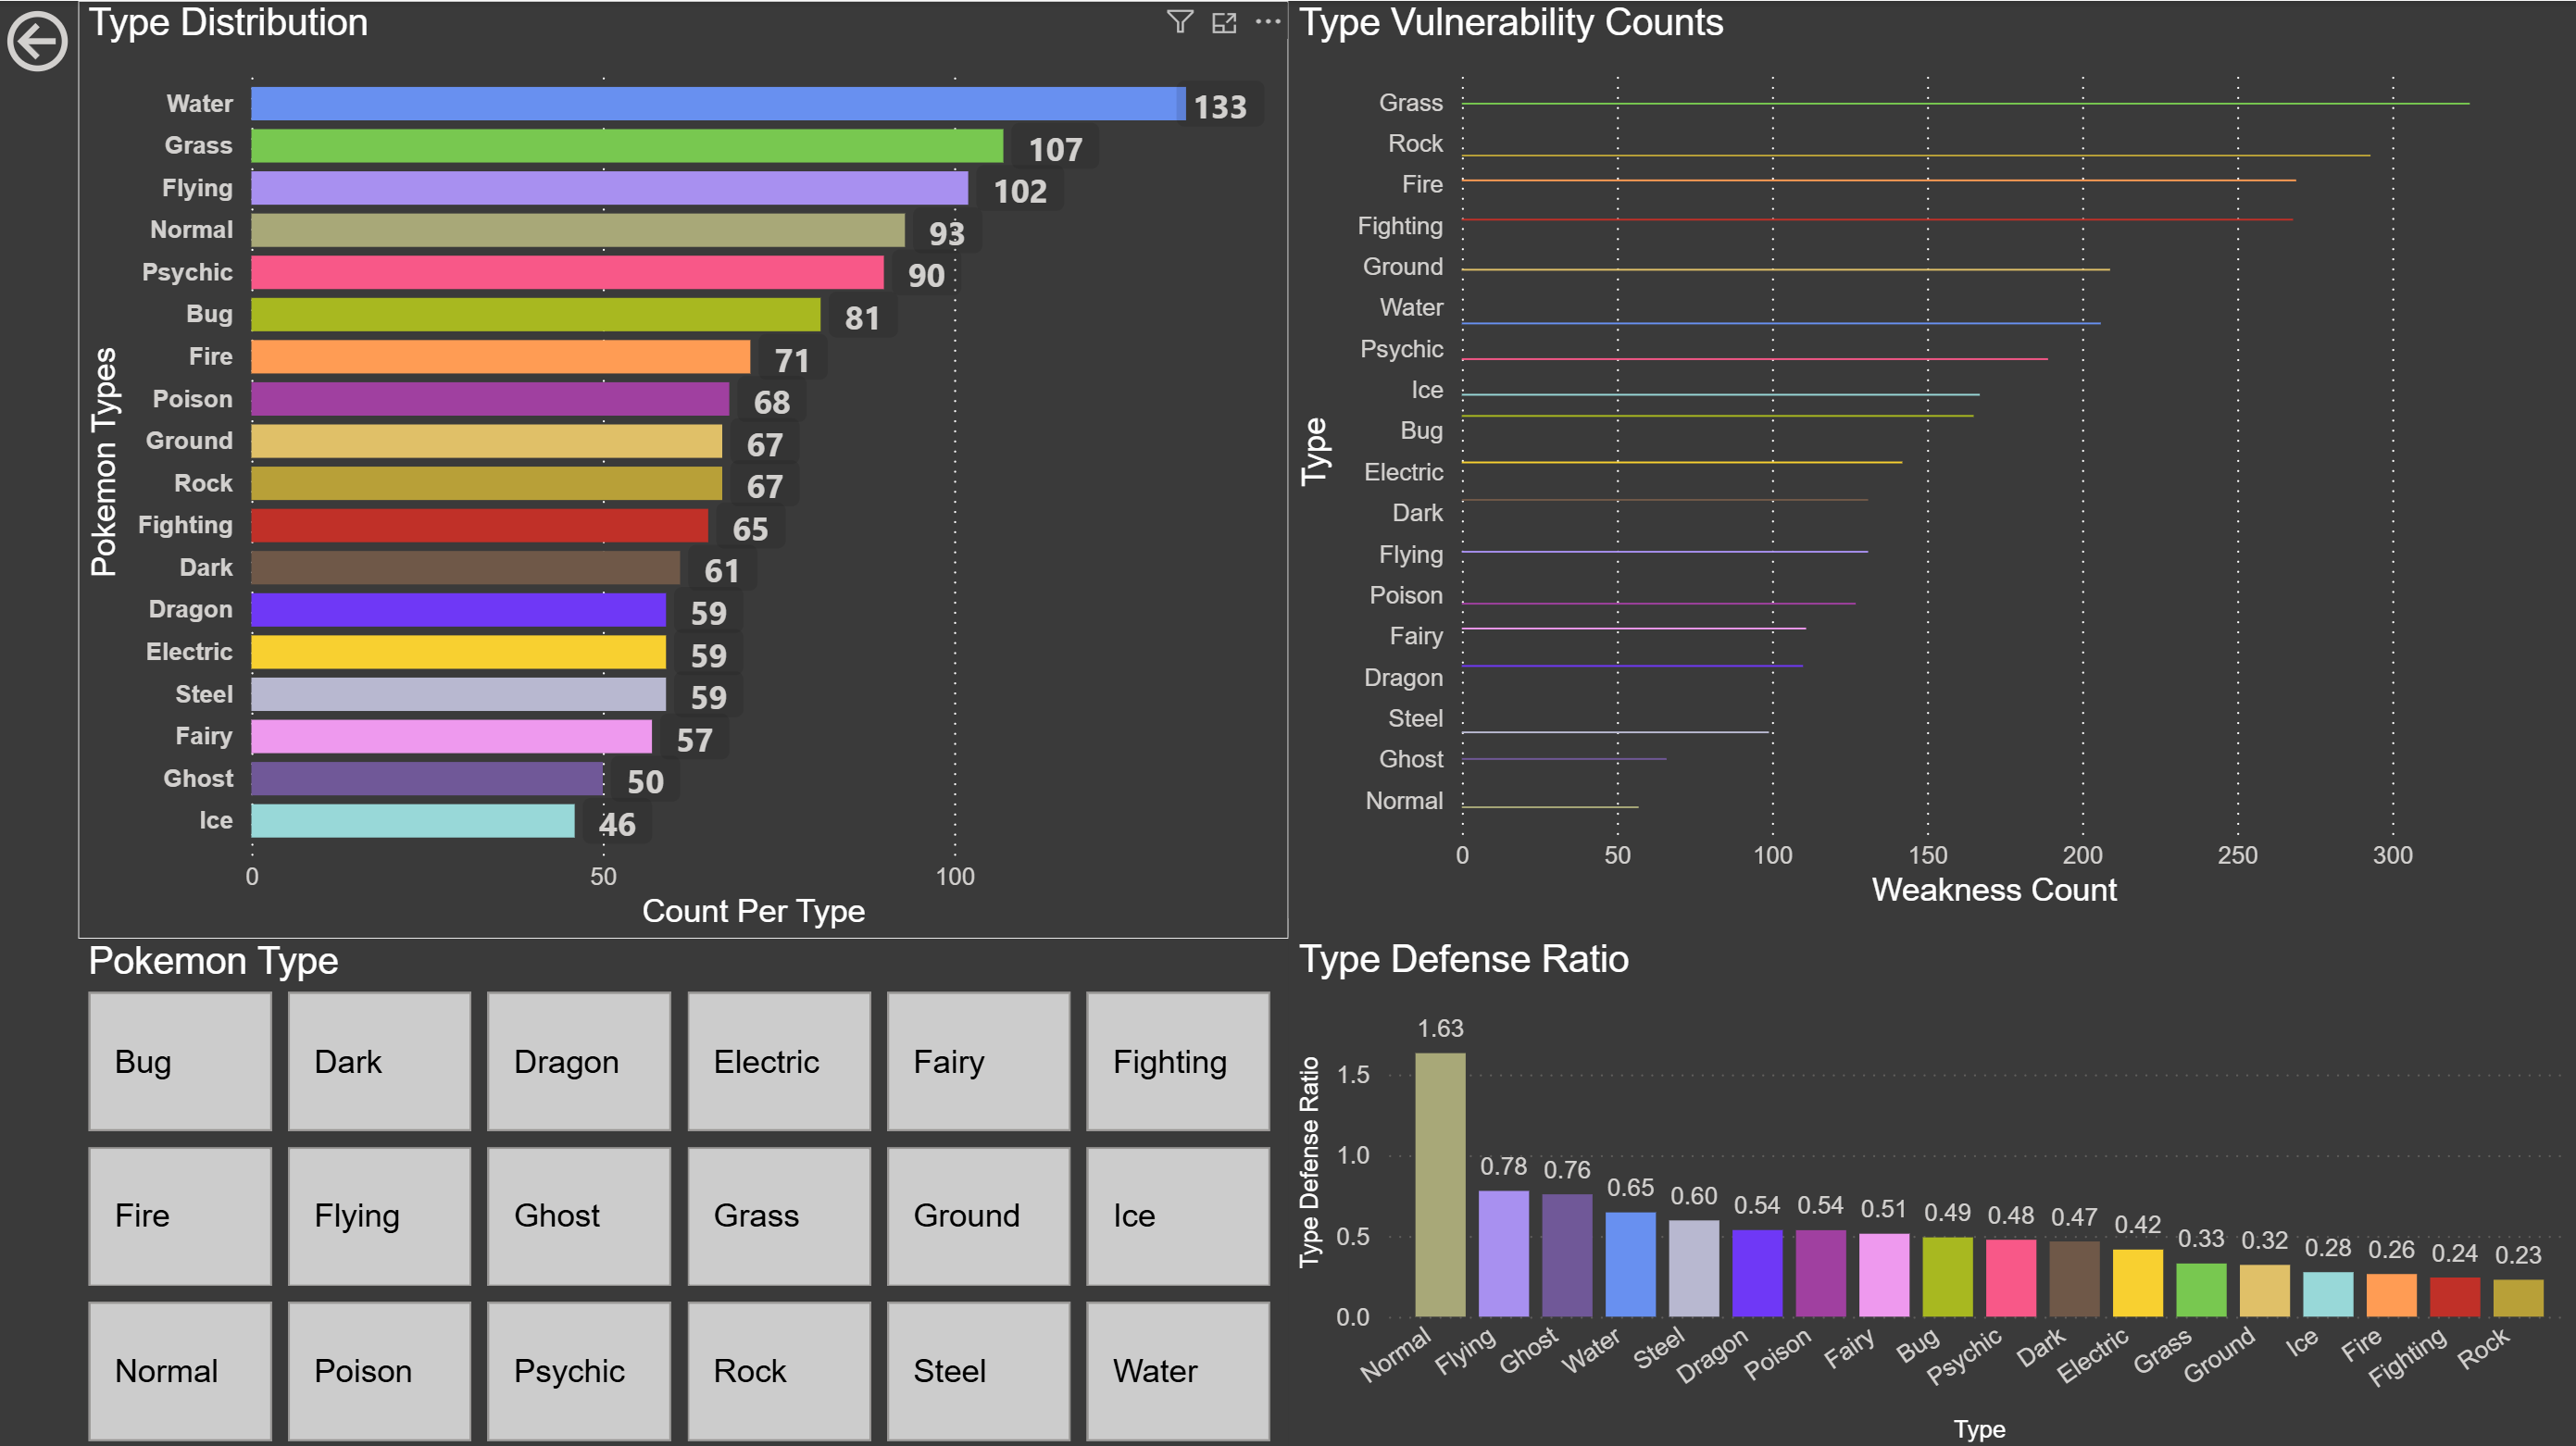

What the dashboard file says about the page in this screenshot:
{"tool":"powerbi","page":{"name":"Pokemon Typings and Defense","canvas":[1280,720],"ordinal":0},"visuals":[{"type":"barChart","title":"Type Distribution","fields":{"Category":["Pokedex.Type"],"Series":["Pokemon Types.Pokemon Type"],"Y":["Measures Table.TypeCount"]},"box":[40.5,0,600,465],"z":1000},{"type":"advancedSlicerVisual","fields":{"Values":["Pokemon Types.Pokemon Type"]},"box":[40.5,465,600,255.2],"z":2000},{"type":"clusteredBarChart","title":"Type Vulnerability Counts","fields":{"Category":["Pokemon Advantages.Type Advantage"],"Y":["CountNonNull(Pokemon Advantages.Type Advantage)"],"Series":["Pokemon Types.Pokemon Type"]},"box":[640,0,630,454.7],"z":3000},{"type":"columnChart","title":"Type Defense Ratio","fields":{"Category":["Pokedex.Type"],"Y":["Measures Table.Type Defense Ratio"],"Series":["Pokemon Types.Pokemon Type"]},"box":[640,464.7,640,255.1],"z":4000},{"type":"actionButton","box":[0,0,100,40],"z":5000}]}

Visuals, with their boxes in screenshot pixels (x1, y1, x2, y2), scaled from the page's 1280x720 canvas onto the 2576x1446 screenshot:
"Type Distribution" barChart: 81, 0, 1289, 934
advancedSlicerVisual - Pokemon Types.Pokemon Type: 81, 934, 1289, 1445
"Type Vulnerability Counts" clusteredBarChart: 1288, 0, 2556, 913
"Type Defense Ratio" columnChart: 1288, 933, 2575, 1445
actionButton: 0, 0, 201, 81
